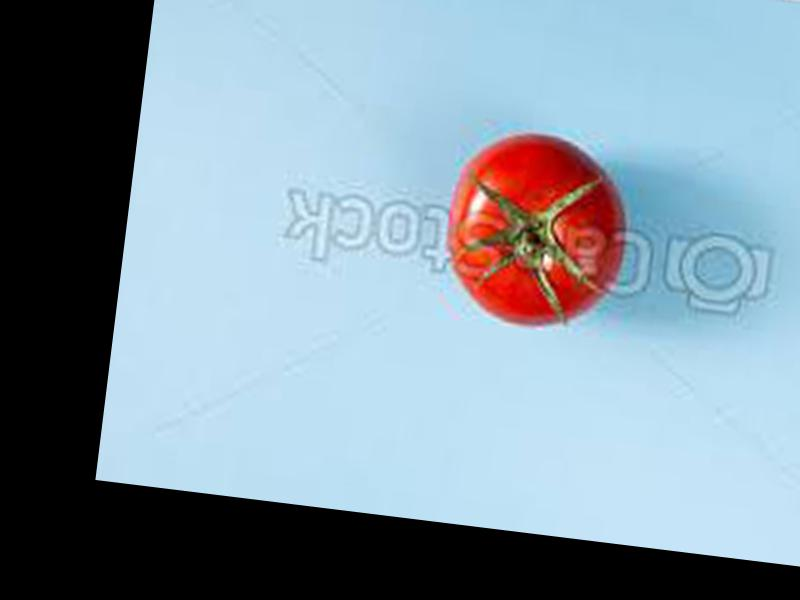Tomato: (439, 121, 633, 334)
